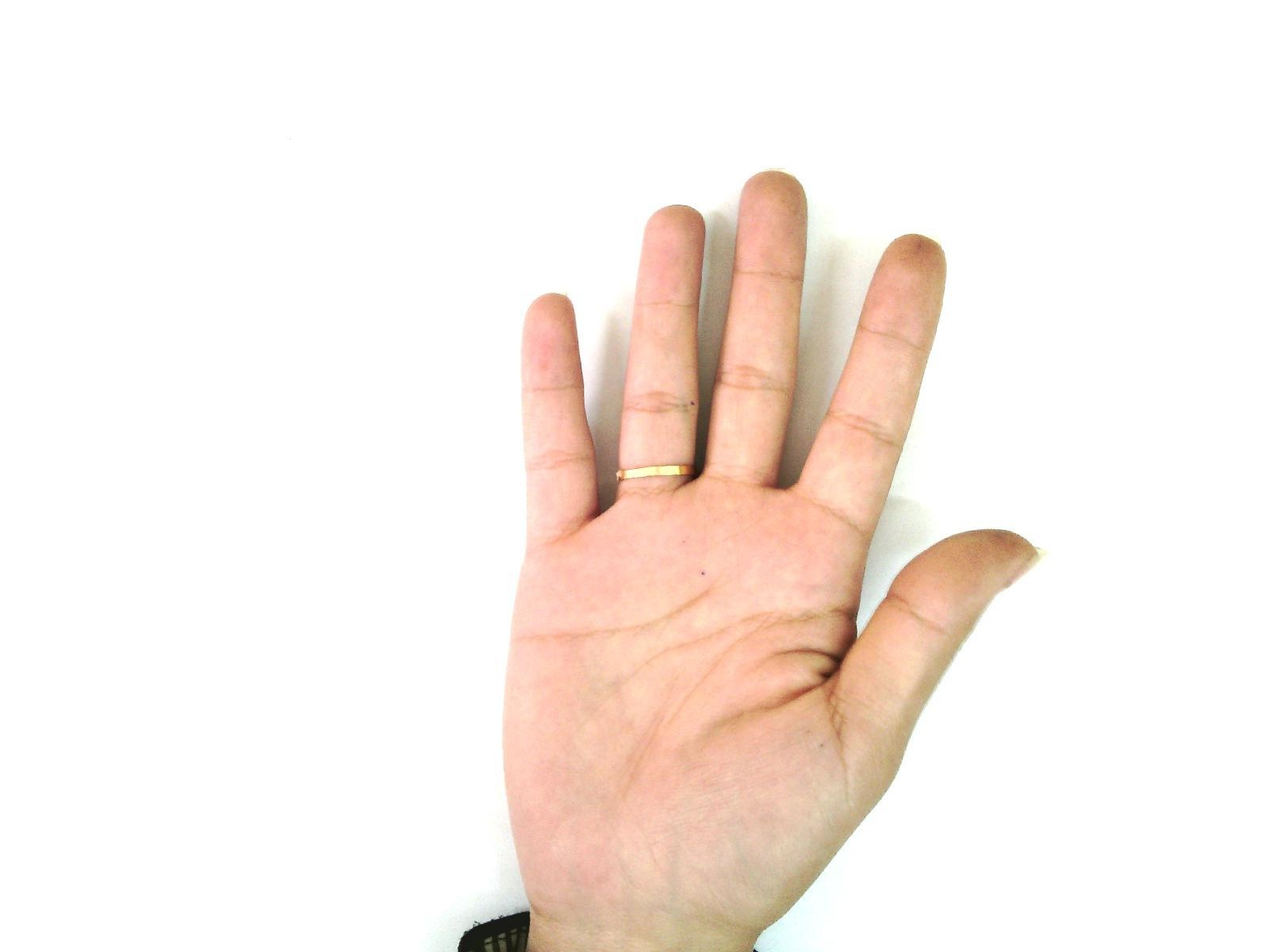open_palm: (496, 169, 1044, 950)
